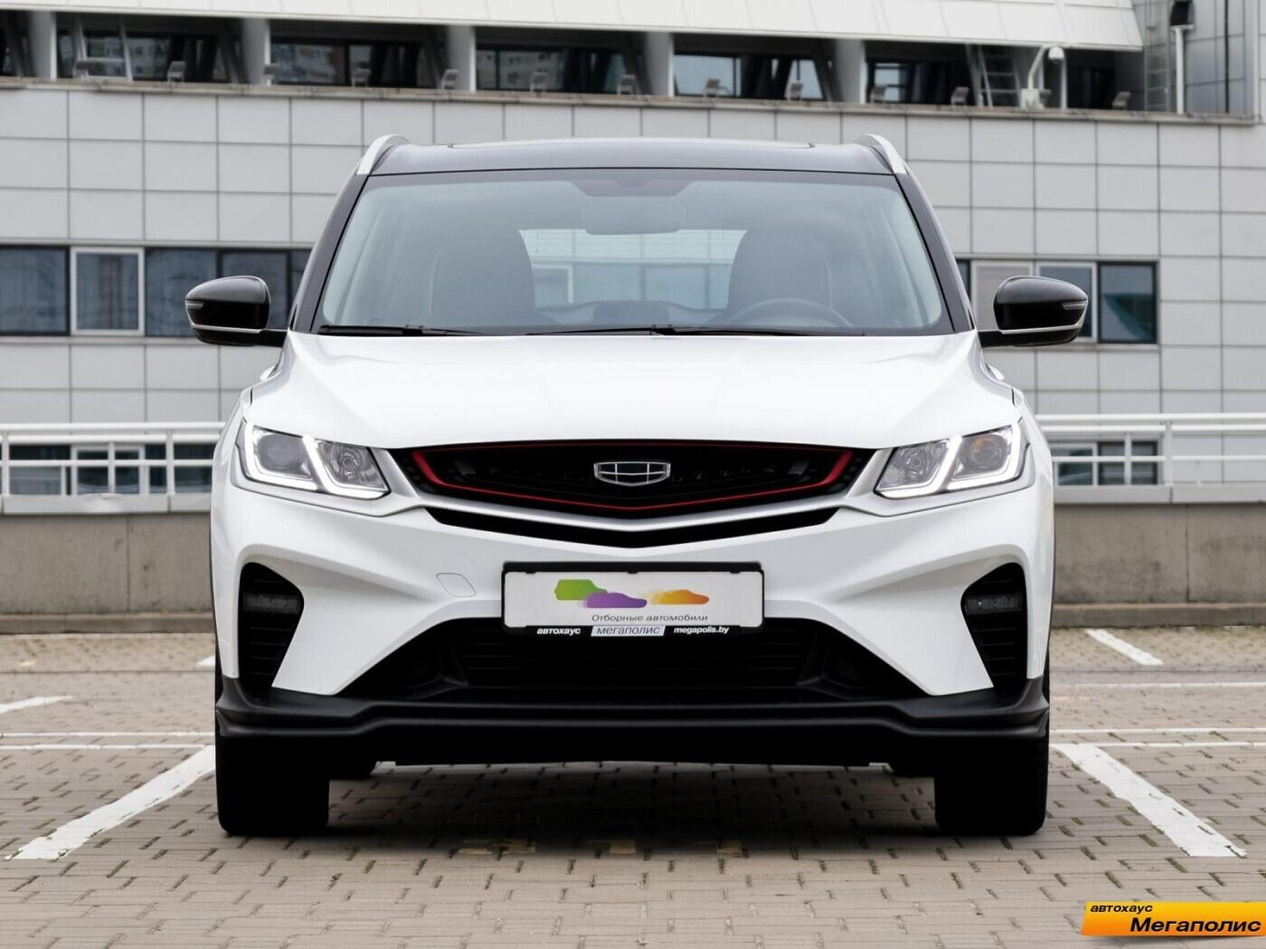Coolray_2019-2023: (191, 127, 1097, 846)
